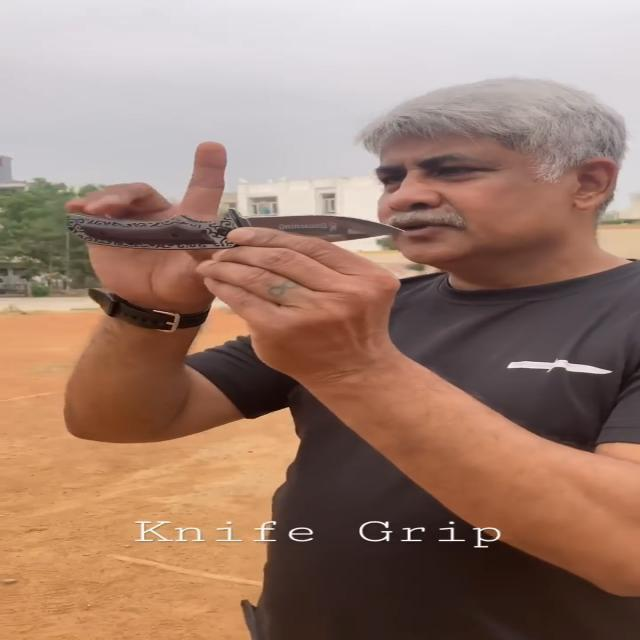Knife: (55, 208, 409, 252)
